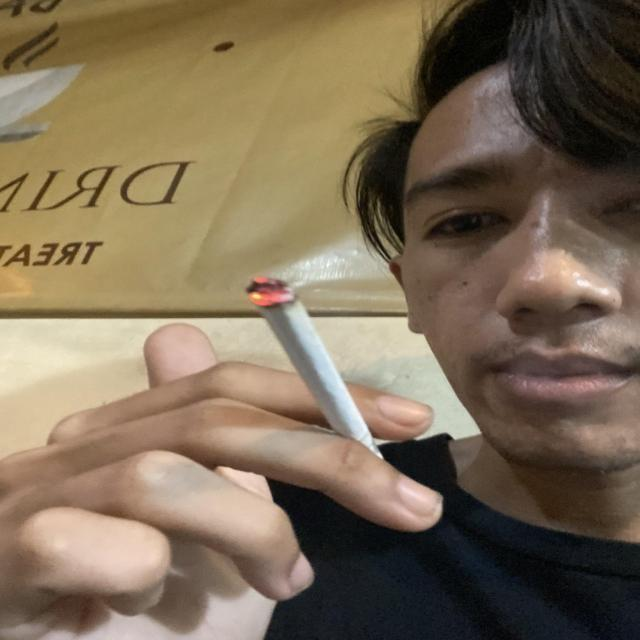rokok: (246, 274, 414, 486)
